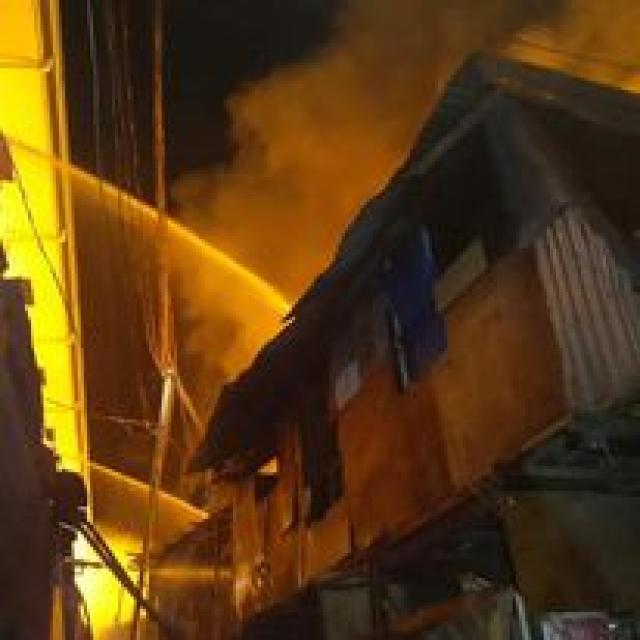Smoke: (178, 0, 480, 392)
